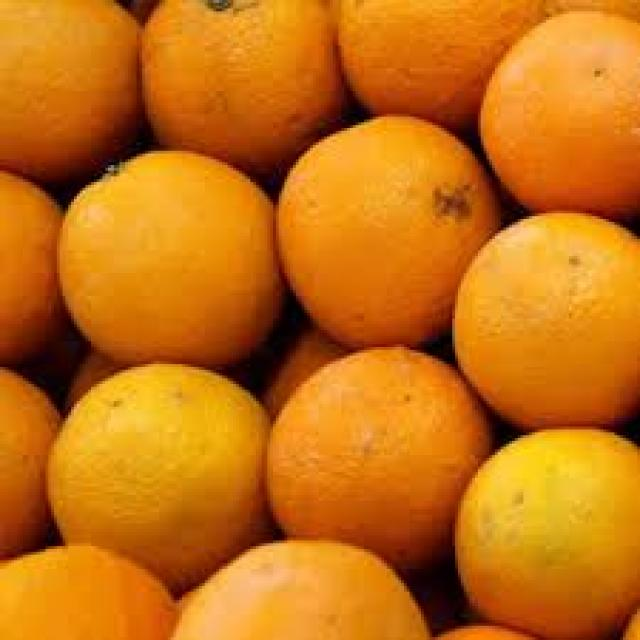orange: (48, 144, 306, 373)
